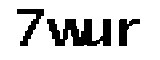7: (10, 2, 46, 49)
r: (119, 13, 146, 49)
u: (89, 15, 116, 50)
w: (45, 16, 87, 50)
